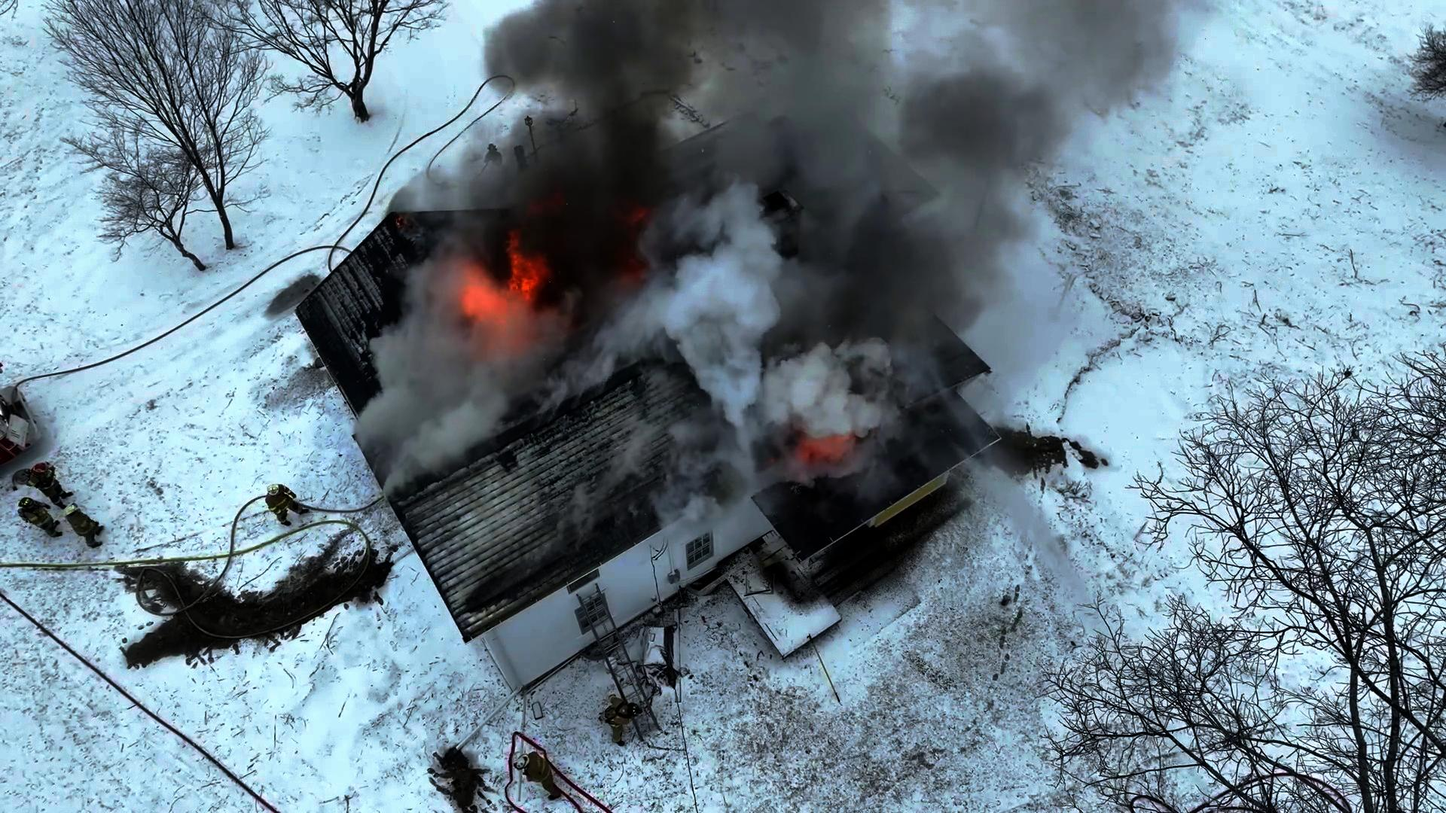fire: (460, 219, 575, 350)
smoke: (712, 204, 916, 363)
